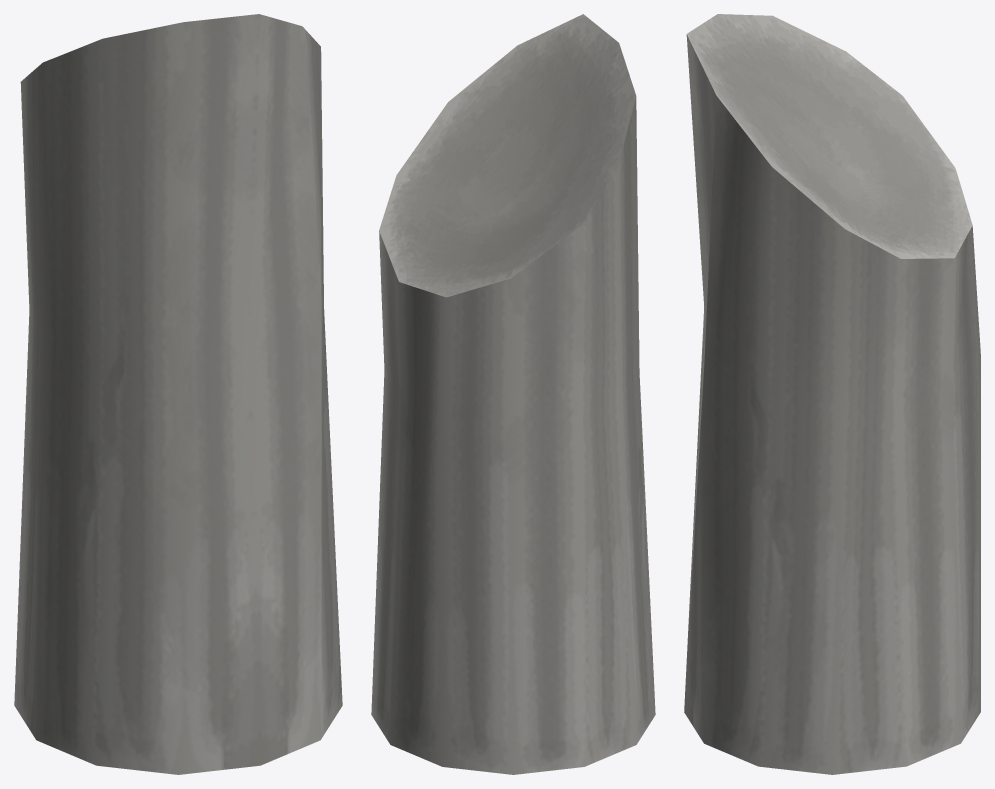
File: MarblePillarHalf01Geo.fbx
3 renders of one model, left to right at view 1: azimuth 30°, elevation 25°; view 2: azimuth 150°, elevation 25°; view 3: azimuth 270°, elevation 25°, orthographic. The views are drawn at different scales.
Visible parts, largest first — view 1: MarblePillarHalf01_Geo; view 2: MarblePillarHalf01_Geo; view 3: MarblePillarHalf01_Geo.
Part boxes in pixels (x1,y1,x2,y2): MarblePillarHalf01_Geo: (14, 14, 342, 774); MarblePillarHalf01_Geo: (371, 14, 655, 774); MarblePillarHalf01_Geo: (684, 14, 980, 774).
Size of the model in its own units: 26.27 by 66.27 by 26.27.
